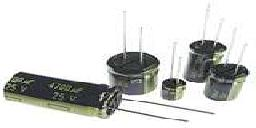Electrolytic-Capacitor: (1, 71, 142, 128), (105, 3, 161, 107), (188, 2, 222, 90), (163, 41, 188, 110)
